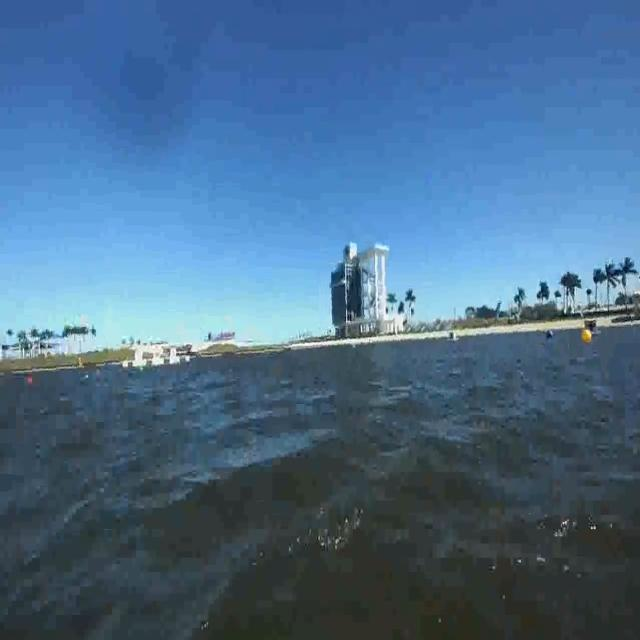yellow-buoy: (583, 328, 593, 347)
